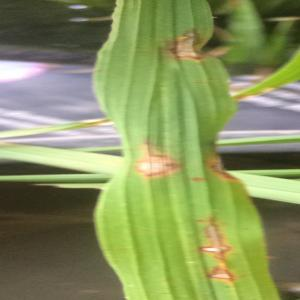Rice_Blast: (128, 125, 190, 190), (162, 22, 228, 73), (196, 213, 238, 285), (206, 129, 252, 188)
